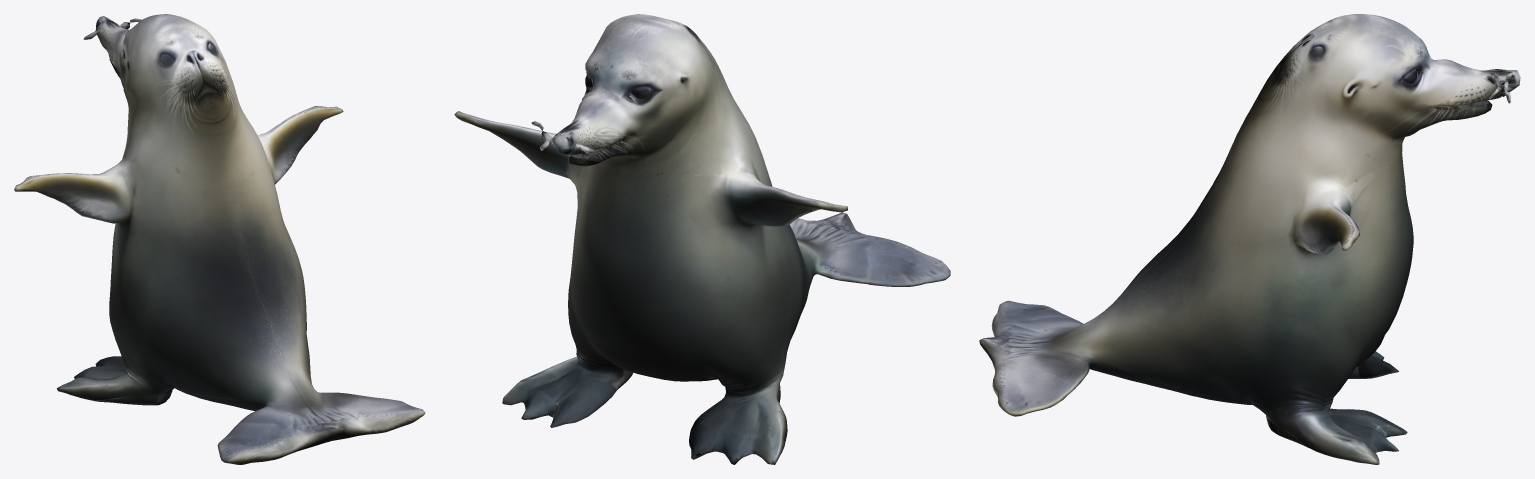
The model's file is seal_sea_creature_0903044102_texture.fbx.
3 views of the same model, side by side, from view 1: azimuth 30°, elevation 25°; view 2: azimuth 150°, elevation 25°; view 3: azimuth 270°, elevation 25° (orthographic). The views are drawn at different scales.
Visible parts, largest first — view 1: Mesh1.0; view 2: Mesh1.0; view 3: Mesh1.0.
Boxes of the visible parts, left/top/right/bottom form: Mesh1.0: left=14, top=14, right=425, bottom=464; Mesh1.0: left=454, top=14, right=950, bottom=464; Mesh1.0: left=979, top=14, right=1520, bottom=464.
Bounding box in the file's own units: 158 × 159 × 200.
Materials: 1 (1 with a texture image).
